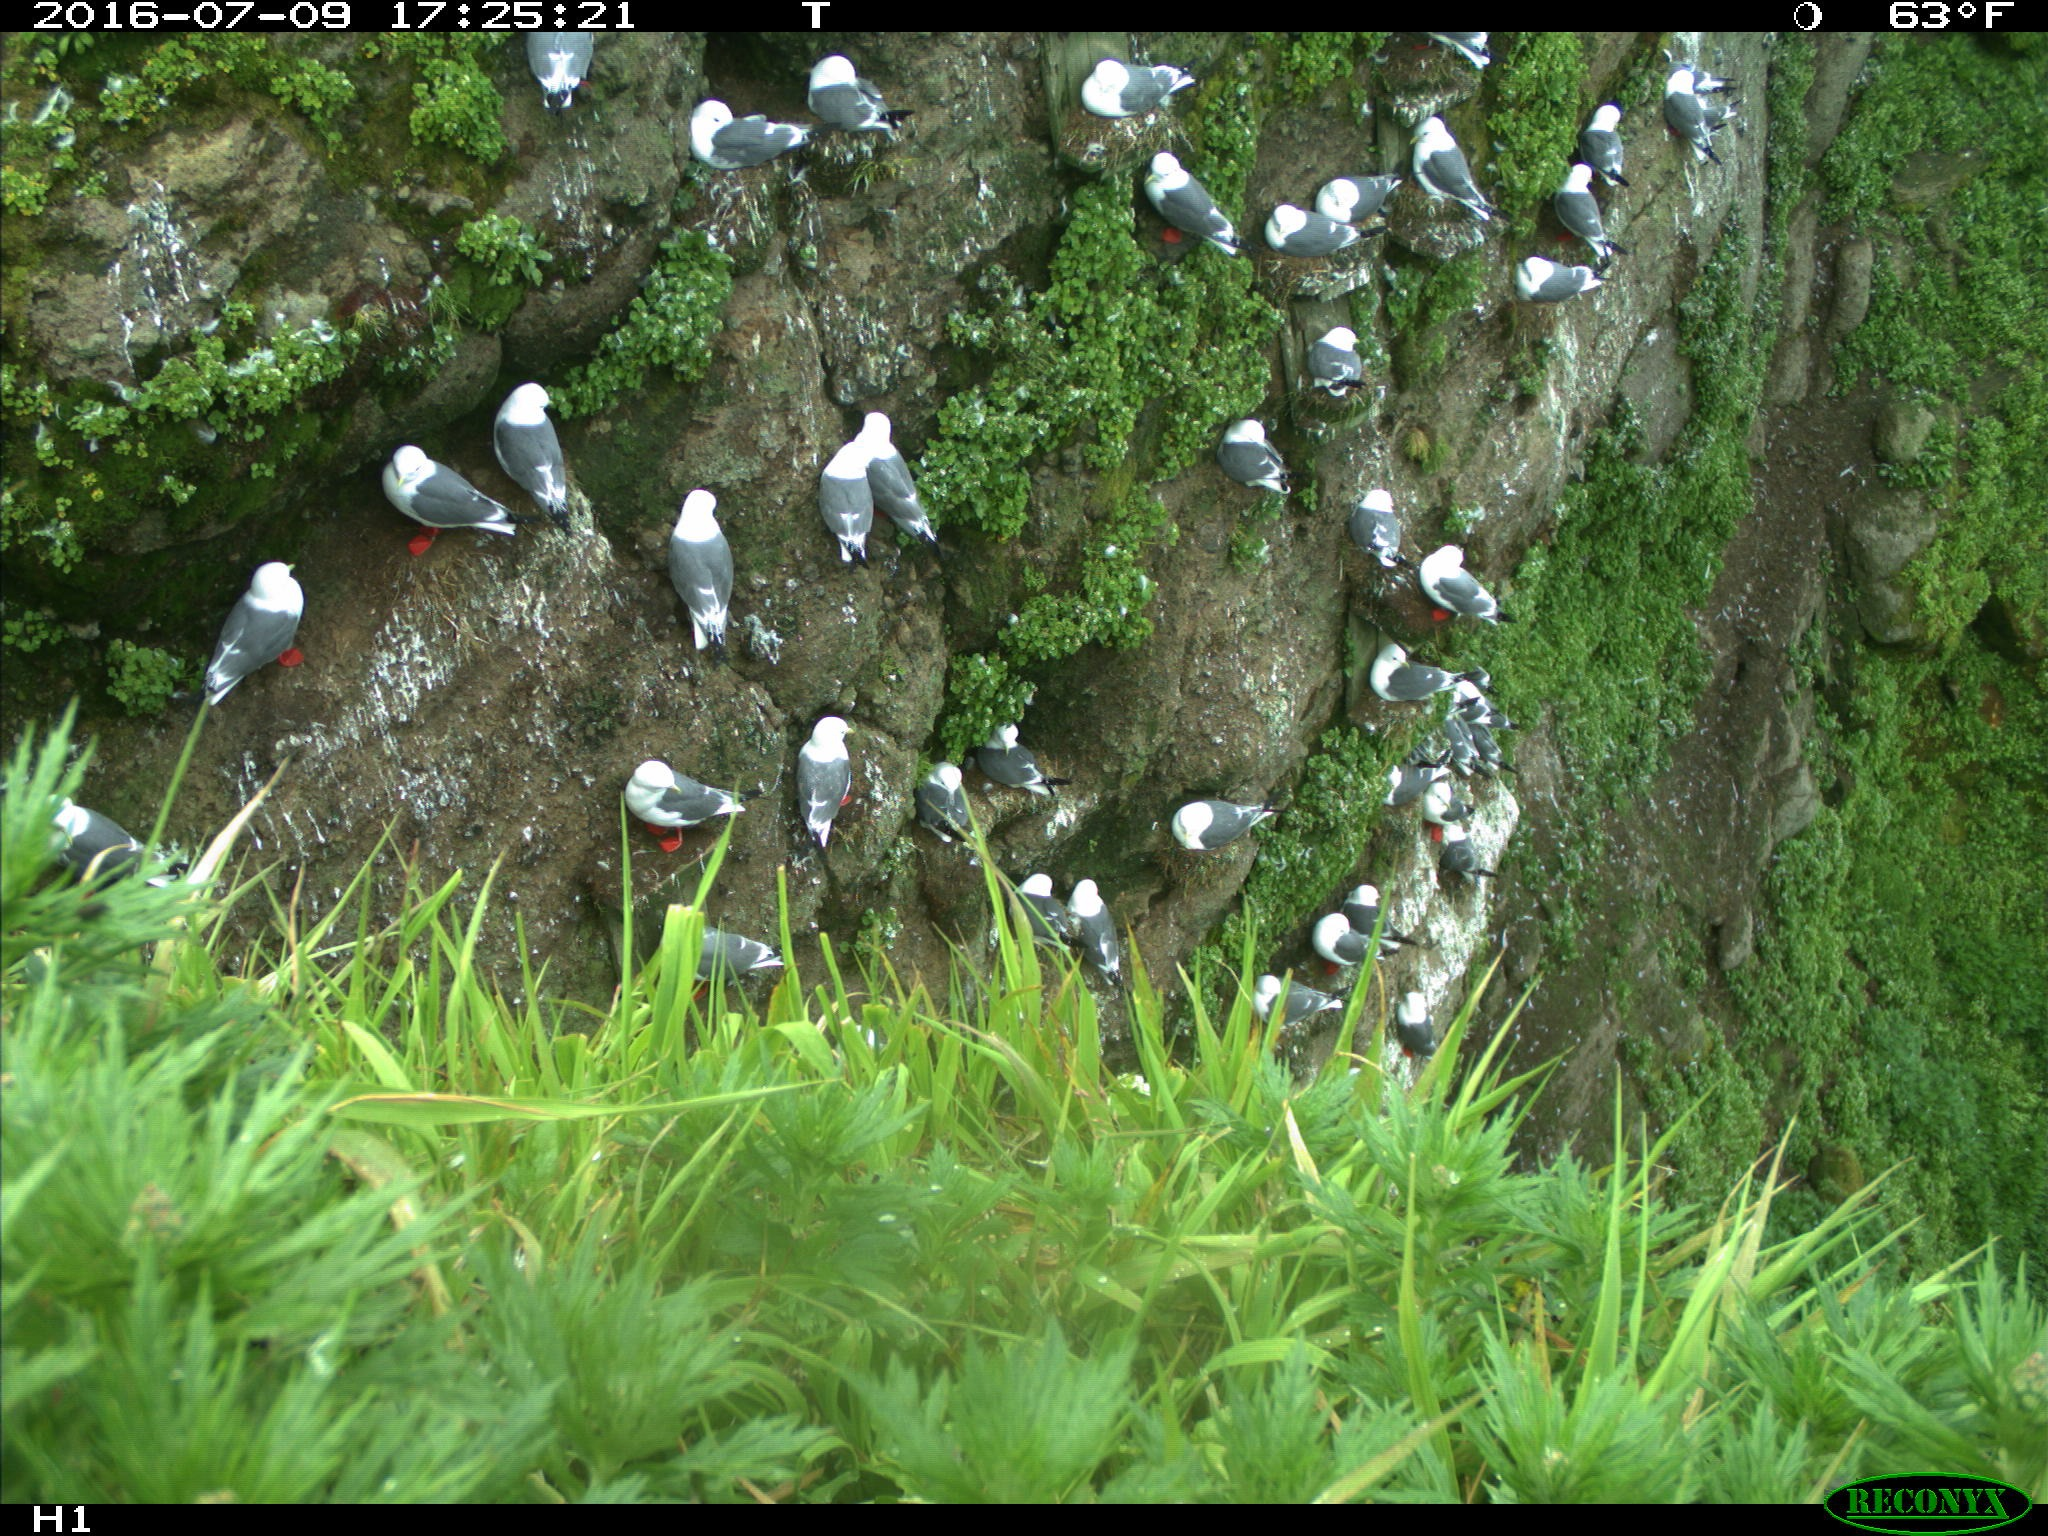Kittiwake: (189, 545, 332, 733), (651, 479, 810, 629), (837, 390, 972, 553), (10, 758, 173, 887), (468, 379, 582, 542), (371, 415, 472, 591), (616, 742, 768, 858), (1130, 144, 1243, 279), (669, 89, 821, 187), (790, 703, 893, 847), (664, 892, 801, 1000), (1053, 53, 1237, 132), (800, 428, 892, 584), (779, 56, 934, 145), (916, 744, 1014, 870), (502, 24, 621, 127), (1646, 69, 1755, 179), (1158, 770, 1284, 858), (1385, 124, 1513, 211), (1266, 182, 1363, 295), (1359, 634, 1487, 716), (1572, 94, 1680, 189), (1334, 887, 1485, 955), (1285, 316, 1414, 394), (1500, 239, 1643, 307), (1324, 474, 1447, 553), (980, 705, 1058, 821), (1409, 536, 1500, 629), (1309, 153, 1388, 258), (997, 866, 1077, 963), (1300, 920, 1384, 1010), (1209, 416, 1288, 505), (1255, 934, 1313, 1050), (1542, 166, 1617, 248), (1064, 876, 1118, 992), (1414, 787, 1472, 891), (1443, 682, 1513, 758), (1376, 750, 1434, 821), (1546, 121, 1613, 182)
